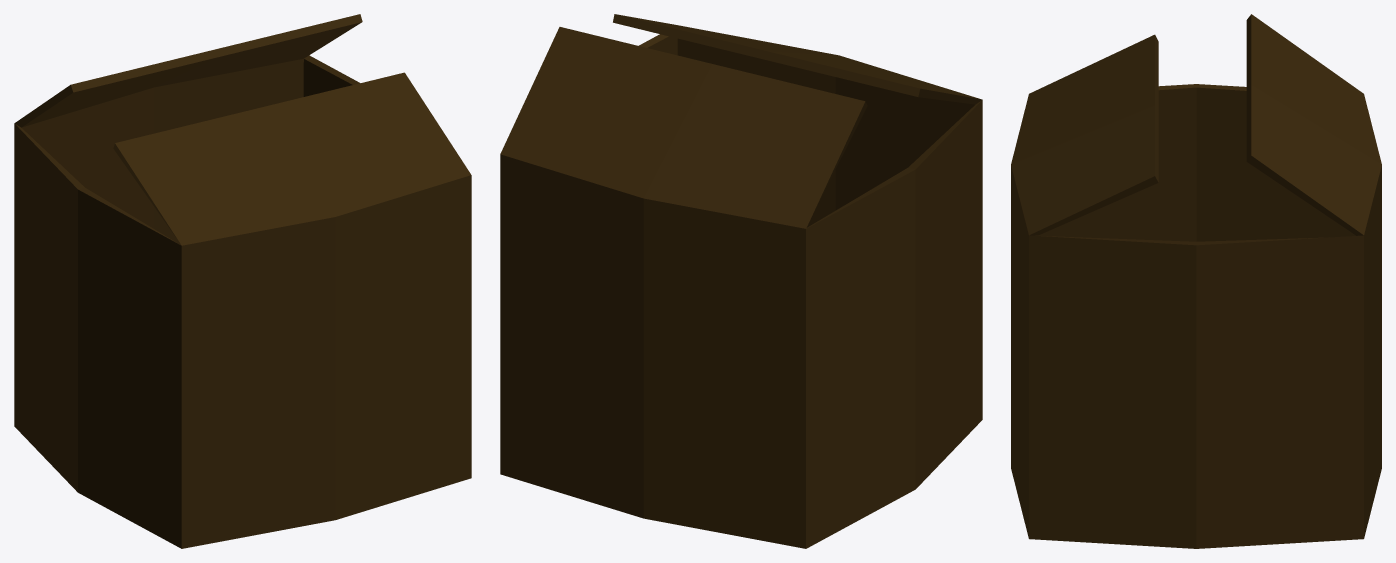
Rendered from Cardboard Box.fbx.
3 views of the same model, side by side, from view 1: azimuth 30°, elevation 25°; view 2: azimuth 150°, elevation 25°; view 3: azimuth 270°, elevation 25° (orthographic). The views are drawn at different scales.
Visible parts, largest first — view 1: Cube; view 2: Cube; view 3: Cube.
Part boxes in pixels (x1=…): Cube: x1=14, y1=14, x2=471, y2=548; Cube: x1=500, y1=14, x2=982, y2=548; Cube: x1=1011, y1=14, x2=1381, y2=548.
Bounding box in the file's own units: 473 × 524 × 460.
